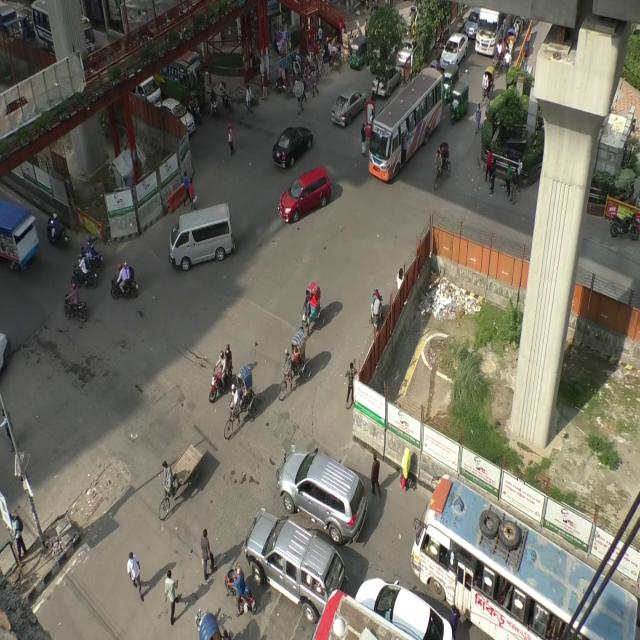cng: (449, 84, 468, 123), (443, 62, 459, 104), (347, 36, 369, 66)
rikshaw: (224, 365, 259, 445), (283, 326, 311, 401), (300, 272, 325, 343), (434, 140, 454, 192), (293, 57, 316, 93), (480, 67, 496, 104), (281, 67, 299, 97), (328, 42, 346, 72), (492, 38, 507, 69), (506, 29, 516, 60)
